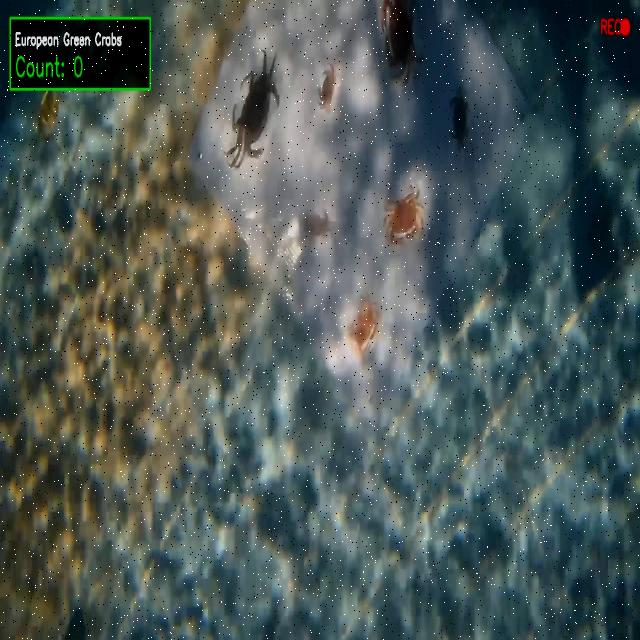European_Green_Crab: (221, 34, 290, 188), (446, 85, 475, 156), (303, 200, 337, 245)
